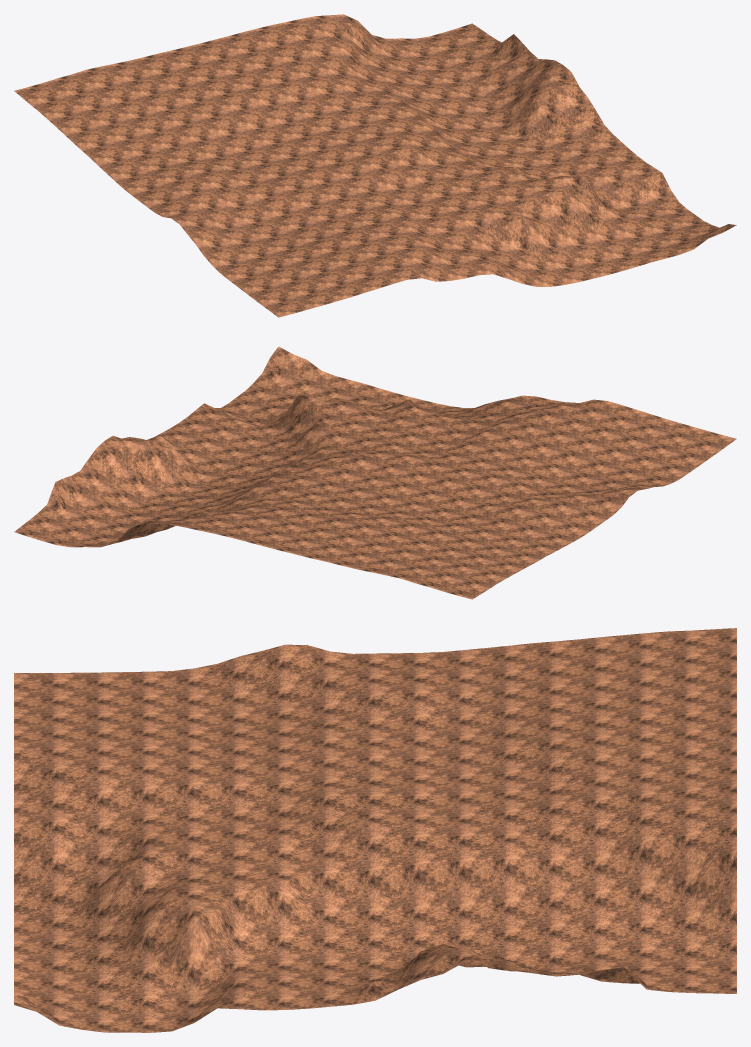
File: terrain_03_16.dae
The picture shows the model from 3 angles, top to bottom: view 1: azimuth 30°, elevation 25°; view 2: azimuth 150°, elevation 25°; view 3: azimuth 270°, elevation 25°; orthographic projection. The views are drawn at different scales.
Visible parts, largest first — view 1: terrain_03_16-node; view 2: terrain_03_16-node; view 3: terrain_03_16-node.
Boxes of the visible parts, <box> form: terrain_03_16-node: <box>14,14,736,317</box>; terrain_03_16-node: <box>14,346,736,599</box>; terrain_03_16-node: <box>14,628,736,1032</box>.
Size of the model in its own units: 128 by 128 by 20.34.
Materials: 1 (1 with a texture image).
